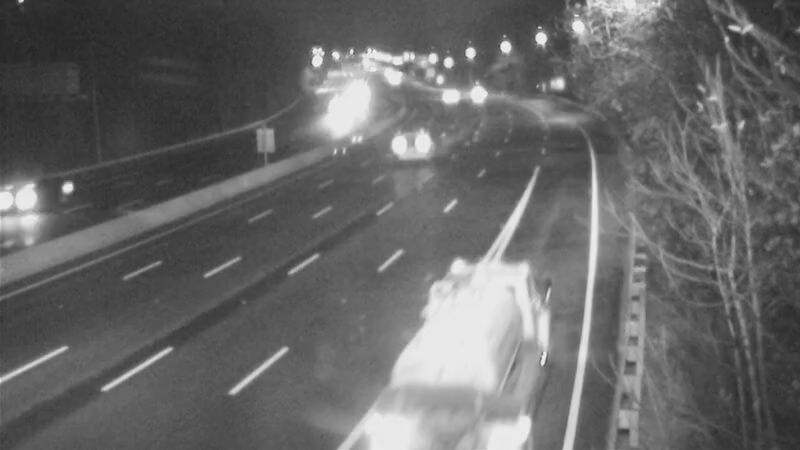vehicle: (409, 307, 519, 417), (1, 155, 72, 235), (456, 64, 506, 114), (427, 73, 477, 123), (387, 121, 437, 171)
